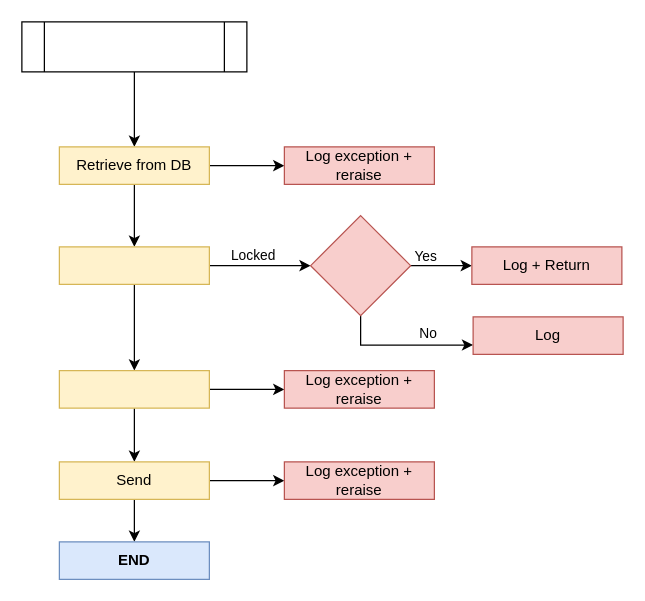
The diagram is 645 pixels wide and 601 high, and some of its shapes have lost their labels. The shapes that lost their labels are listed below. From the top down, each one's centre as x and y in pixels, then its label:
At pixel 134 46: "New Order".
At pixel 133 265: "Check printer status".
At pixel 360 265: "Already printed?".
At pixel 133 388: "Generate receipt".
